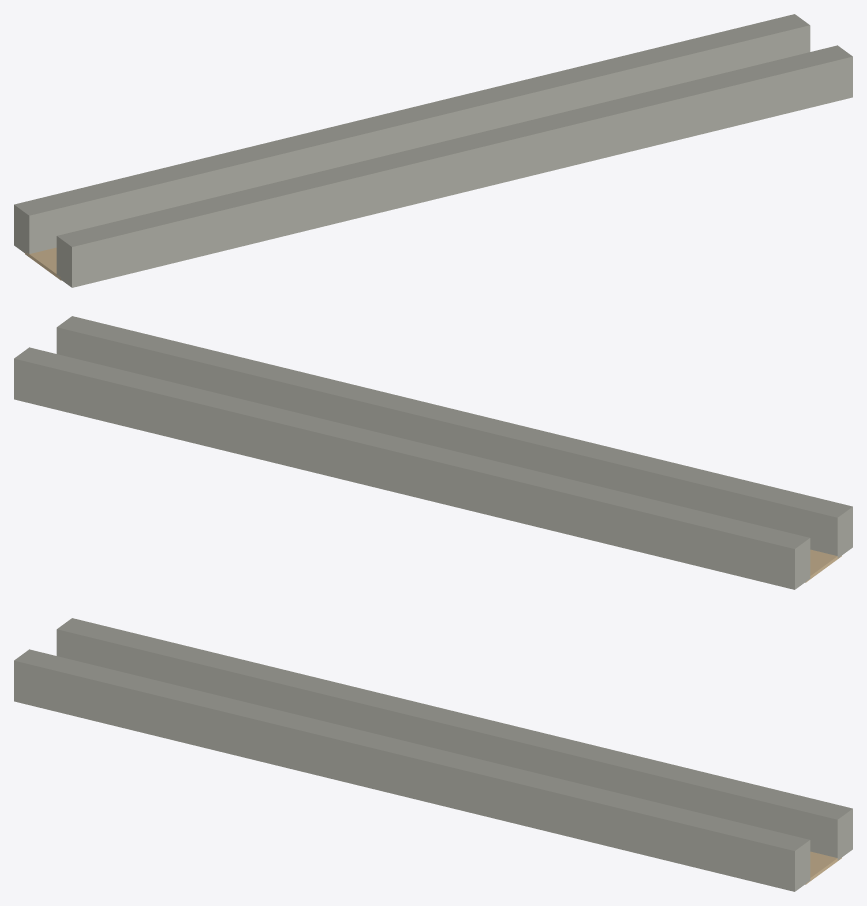
Rendered from SM_Acequia_v1_Seca_LOD1.fbx.
3 views of the same model, one above another, from view 1: azimuth 30°, elevation 25°; view 2: azimuth 150°, elevation 25°; view 3: azimuth 330°, elevation 25° (orthographic).
Parts seen in each view (by area): view 1: SM_huerta_nules_v16_LOD1; view 2: SM_huerta_nules_v16_LOD1; view 3: SM_huerta_nules_v16_LOD1.
Part boxes in pixels (left/top/right/bottom): SM_huerta_nules_v16_LOD1: left=14, top=14, right=852, bottom=287; SM_huerta_nules_v16_LOD1: left=14, top=316, right=852, bottom=589; SM_huerta_nules_v16_LOD1: left=14, top=618, right=852, bottom=891.
Size of the model in its own units: 10 by 0.51 by 1.29.
